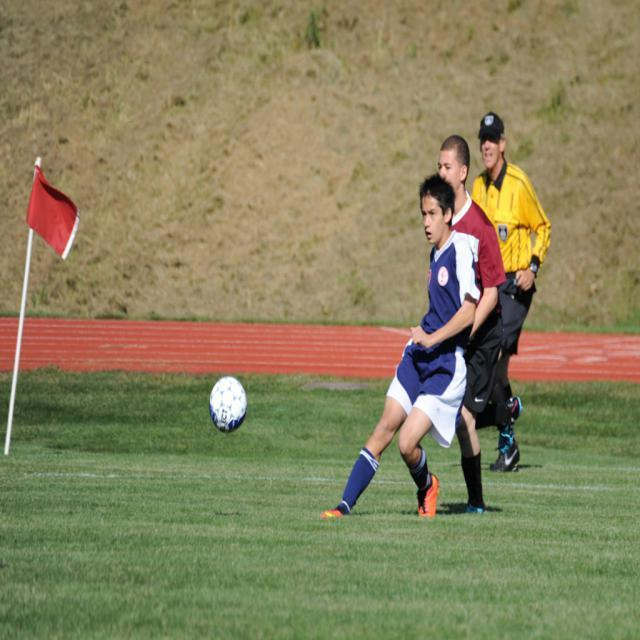football: (202, 371, 259, 439)
